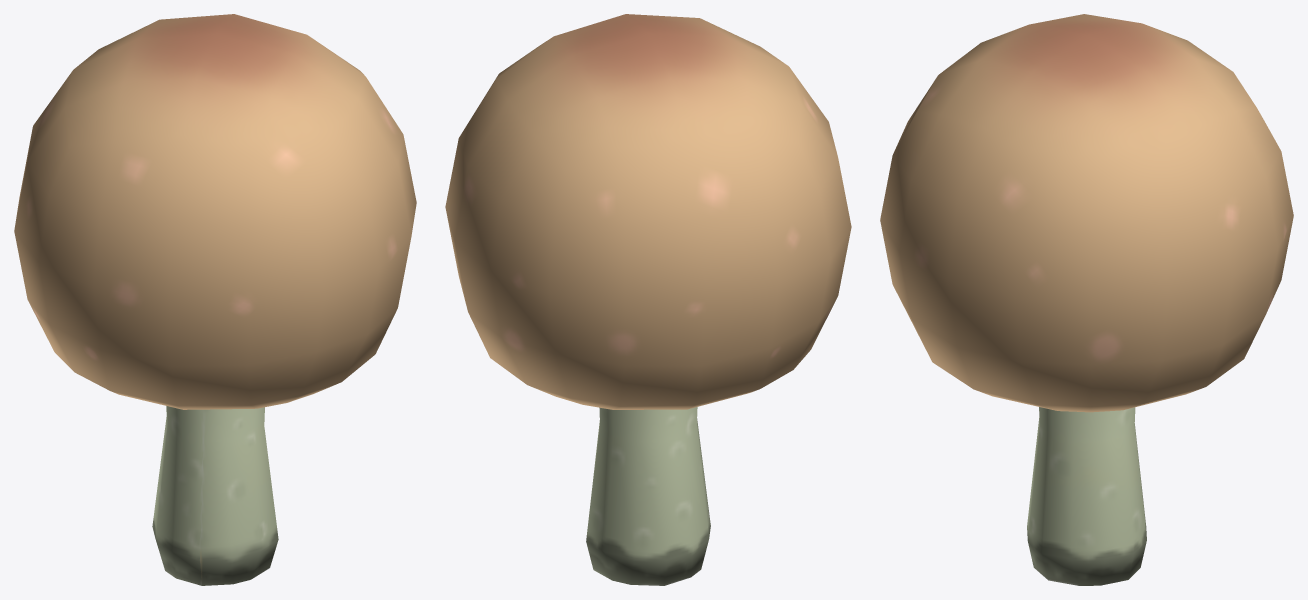
The model's file is Mushroom_16.fbx.
3 renders of one model, left to right at view 1: azimuth 30°, elevation 25°; view 2: azimuth 150°, elevation 25°; view 3: azimuth 270°, elevation 25°, orthographic.
Parts seen in each view (by area): view 1: Mushroom_16; view 2: Mushroom_16; view 3: Mushroom_16.
Boxes of the visible parts, bbox=[...] form: Mushroom_16: bbox=[14, 14, 416, 585]; Mushroom_16: bbox=[445, 14, 851, 585]; Mushroom_16: bbox=[880, 14, 1293, 585].
Bounding box in the file's own units: 18.66 × 26.27 × 18.66.
1 material, 1 textured.
